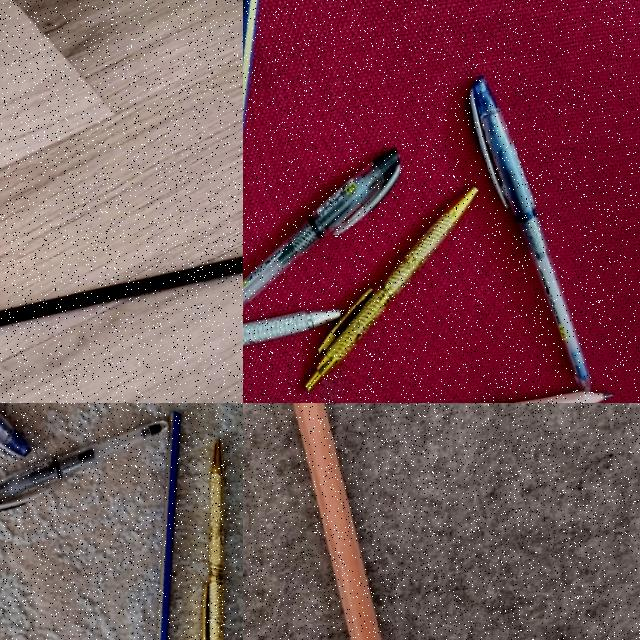pen: (464, 66, 594, 403), (243, 146, 426, 324), (0, 416, 179, 509)
pencil: (294, 403, 380, 639), (0, 258, 242, 326), (290, 367, 613, 403), (156, 412, 178, 640)
signature pen: (306, 187, 477, 388), (156, 441, 243, 640), (243, 298, 344, 377)
